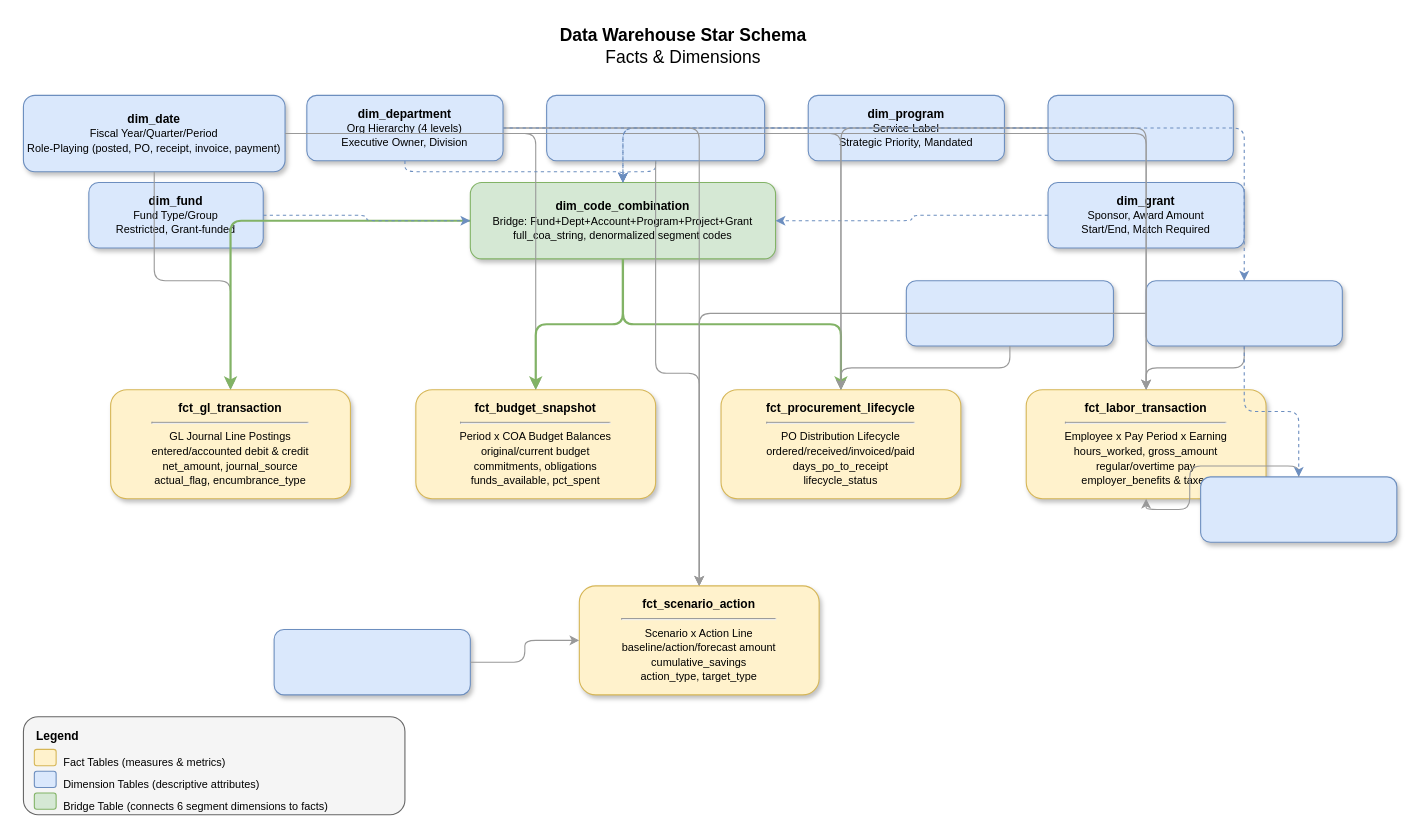
The diagram is 1422 pixels wide and 834 high, and some of its shapes have lost their labels. Each missing label, with the centre of its shape:
dim_account Type/Class/Category Labor, Benefits, Discretionary flags: [656,129]
dim_employee Name, Status, Hire Date Tenure, Position, Department: [1299,510]
dim_position Job Title, Grade, Step Pay Type, FLSA, OT Eligible: [1245,314]
dim_project Capital/Operating/Grant Budget, Status, Dates: [1141,129]
dim_scenario Scenario Name/Type/Owner Baseline FY, Inflation %: [373,663]
dim_vendor Supplier Name/Type/Status Minority, Woman-owned, Local: [1010,314]
